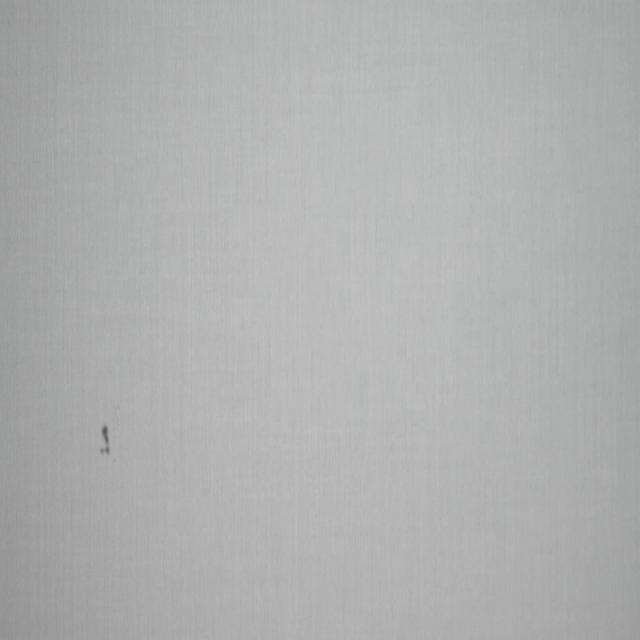dirty: (100, 426, 110, 453)
